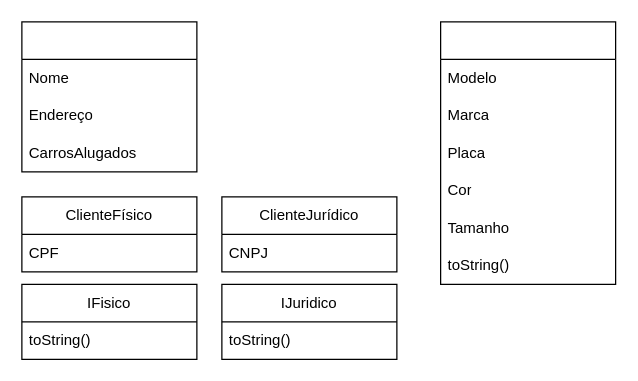
This 638x381 diagram has some shape labels left out. Here are the shapes that lost their labels. From the top down, the box of each, then its label:
(21, 21, 197, 172): Cliente
(439, 21, 616, 284): Veiculo
